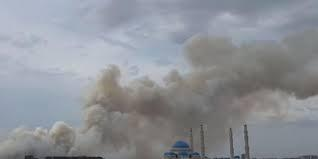smoke: (82, 61, 249, 156), (181, 31, 318, 125), (0, 119, 76, 158)
